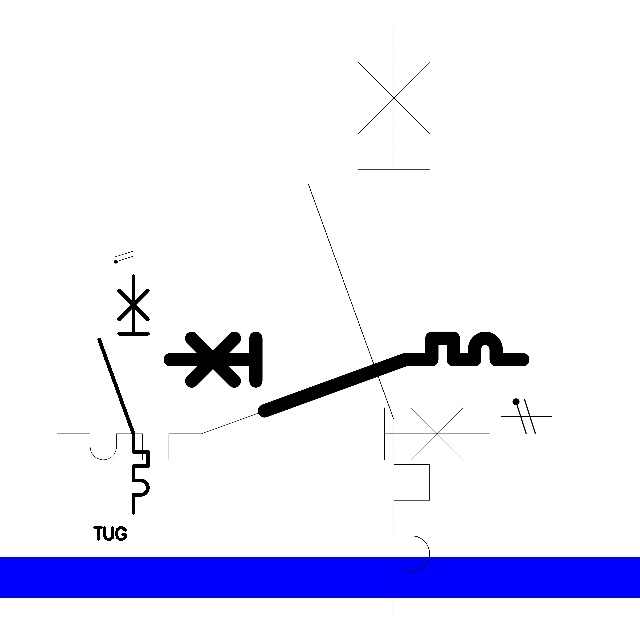interruptor_termomagnetico: (293, 11, 445, 632), (46, 360, 501, 471), (161, 329, 532, 419), (93, 270, 154, 519)
